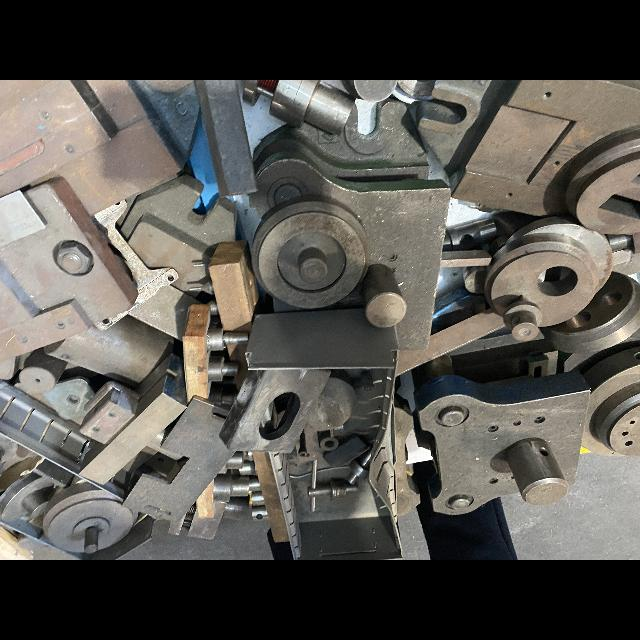Aluminium: (0, 190, 46, 247)
Ferrous Metal: (249, 152, 451, 351), (450, 80, 640, 236), (1, 80, 199, 215), (0, 178, 137, 361), (415, 372, 590, 515), (1, 380, 169, 500), (484, 217, 613, 342), (124, 399, 234, 534), (253, 100, 430, 183), (78, 353, 187, 486), (251, 201, 369, 309), (90, 200, 178, 331), (417, 80, 520, 187), (120, 174, 237, 257), (290, 474, 402, 560), (219, 369, 330, 454), (247, 309, 398, 370), (45, 316, 174, 385), (543, 273, 640, 354), (396, 308, 506, 376), (194, 80, 257, 197), (43, 483, 137, 554), (582, 347, 640, 456), (295, 377, 358, 463), (270, 80, 355, 134), (334, 369, 390, 445), (368, 398, 397, 518), (270, 453, 300, 560), (394, 406, 421, 518), (0, 472, 59, 523), (363, 265, 407, 327), (15, 348, 67, 398), (308, 460, 358, 511), (43, 377, 94, 424), (322, 434, 371, 468), (444, 218, 498, 247), (187, 501, 227, 540), (346, 80, 397, 102), (34, 459, 74, 487), (213, 473, 249, 502), (346, 449, 373, 485), (206, 328, 248, 351), (441, 249, 491, 267), (208, 356, 240, 382), (397, 80, 435, 96), (224, 495, 250, 518), (225, 450, 243, 469), (239, 460, 256, 475), (252, 505, 268, 520), (252, 491, 265, 506), (249, 477, 261, 492), (448, 337, 451, 340)
